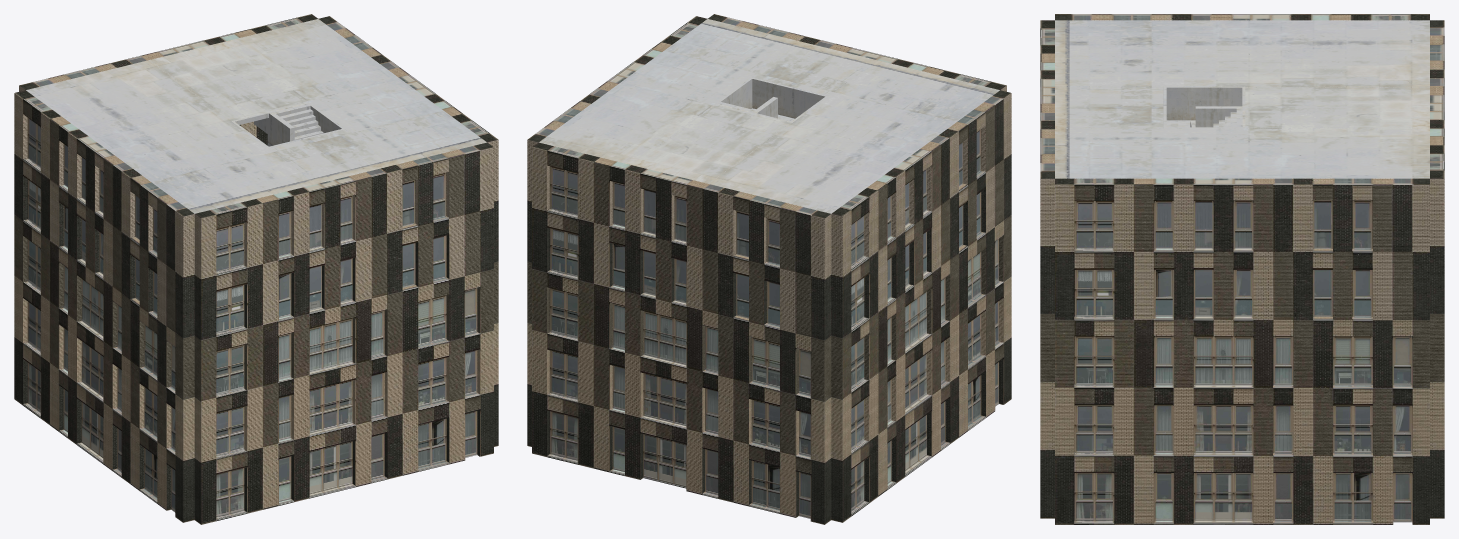
Rendered from BagSS04mid_300.fbx.
The picture shows the model from 3 angles, left to right: view 1: azimuth 30°, elevation 25°; view 2: azimuth 150°, elevation 25°; view 3: azimuth 270°, elevation 25°; orthographic projection. The views are drawn at different scales.
Parts seen in each view (by area): view 1: midMain300, midfloor300, midStairwell300; view 2: midMain300, midfloor300, midStairwell300; view 3: midMain300, midfloor300, midStairwell300.
Part boxes in pixels (x1,y1,x2,y2): midMain300: (14, 14, 498, 524); midfloor300: (26, 19, 486, 213); midStairwell300: (149, 41, 345, 148); midMain300: (527, 14, 1011, 524); midfloor300: (539, 19, 999, 213); midStairwell300: (649, 77, 828, 183); midMain300: (1040, 14, 1444, 524); midfloor300: (1055, 20, 1429, 178); midStairwell300: (1163, 86, 1429, 128).
Size of the model in its own units: 22.1 by 20.5 by 22.1.
